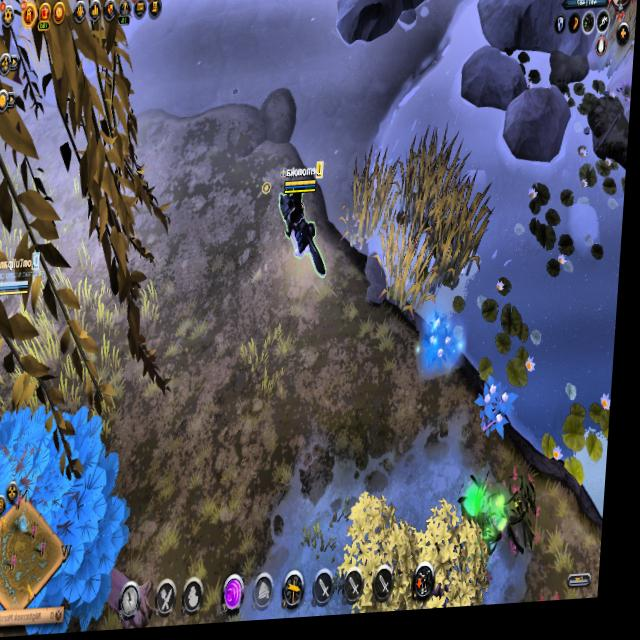fiber tier 4: (418, 305, 470, 385), (477, 381, 526, 449)
